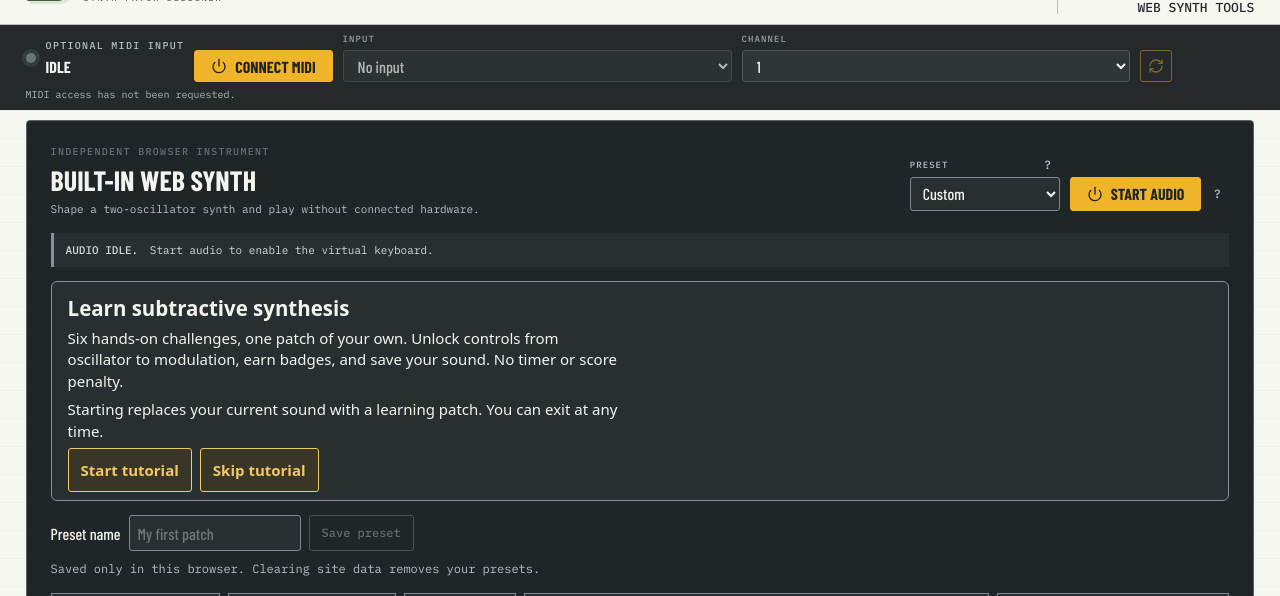
Test: subtractive synthesis tutorial › does not advance an unmet challenge when earlier controls change
Click the button "Start tutorial".
click(130, 470)  # box [68, 448, 192, 492]
(page scrolled)
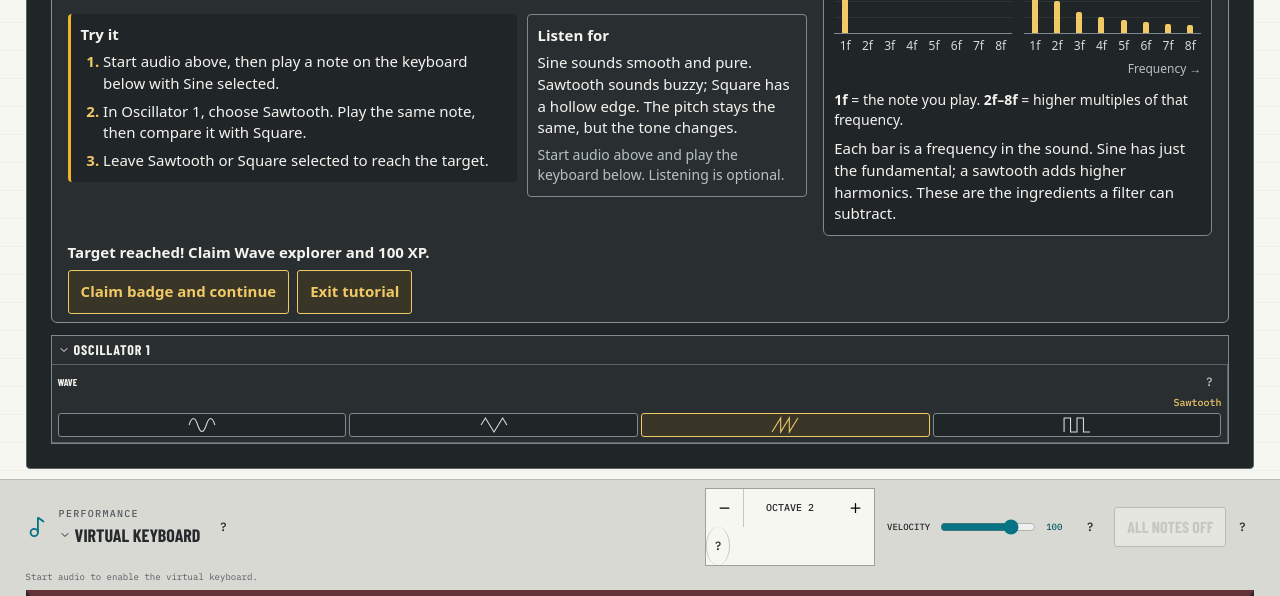
Click the button "Claim badge and continue".
click(178, 292)  # box [68, 270, 289, 314]
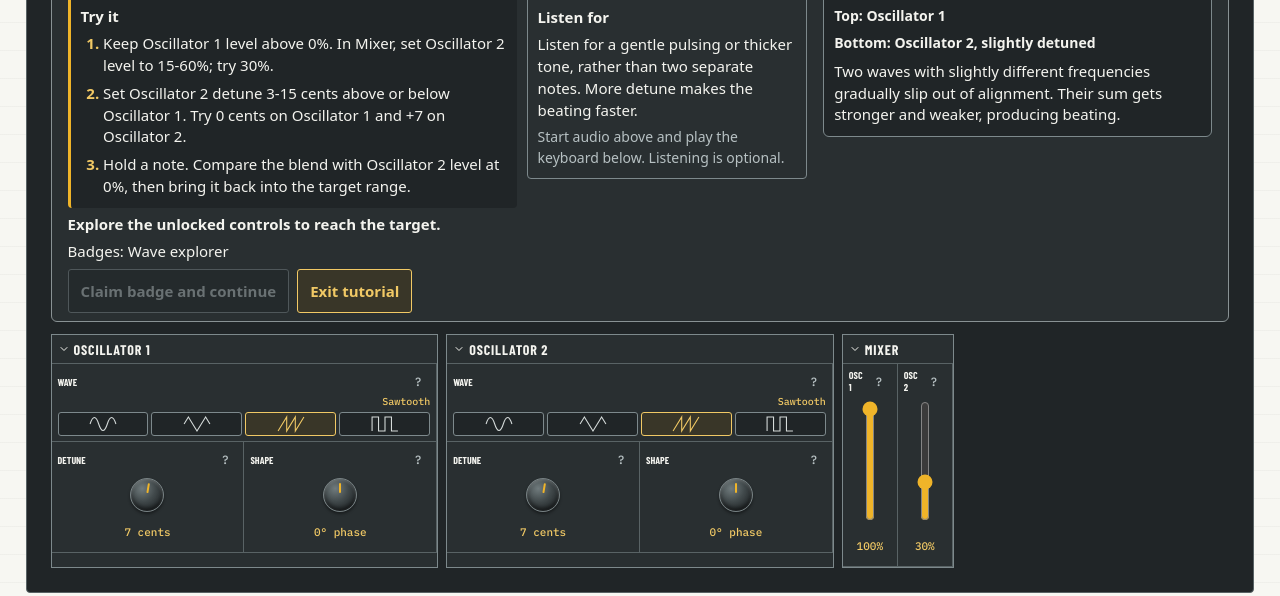
Check: the button "Claim badge and continue" is disabled, box [68, 269, 289, 313]
